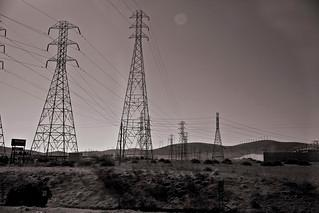power_tower: (29, 19, 83, 162), (115, 4, 154, 162), (211, 111, 226, 161)
